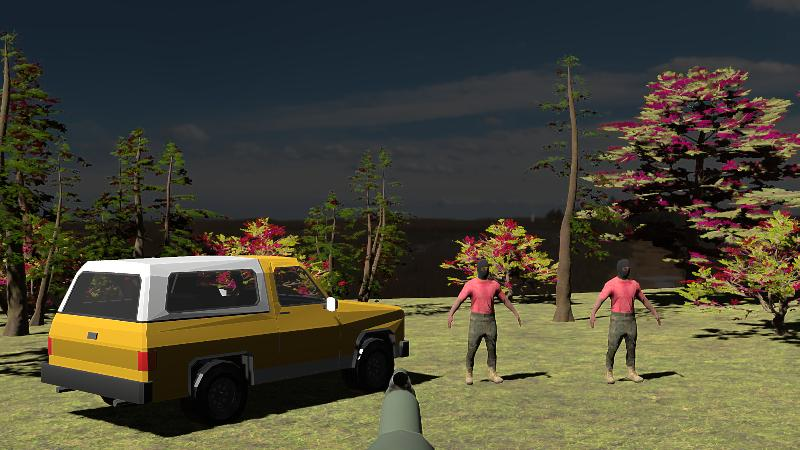Human: (448, 259, 521, 385), (590, 258, 660, 384)
car: (42, 256, 409, 426)
